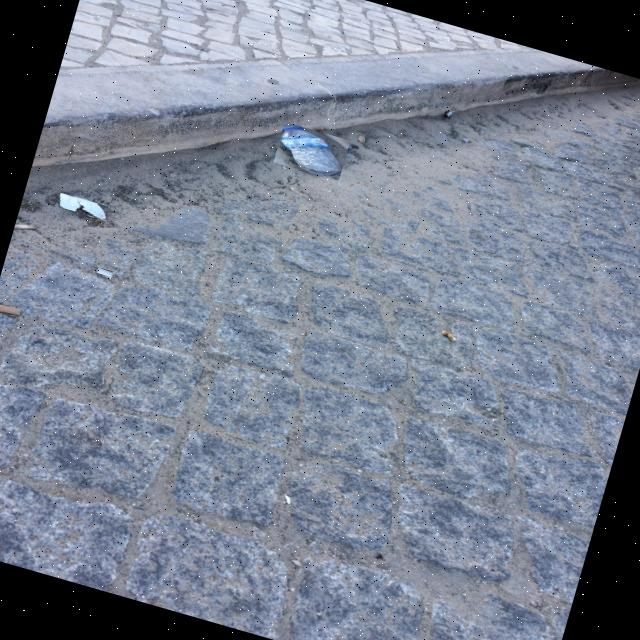Cigarette: (0, 305, 19, 316), (96, 268, 112, 278), (444, 111, 451, 118), (359, 135, 364, 142)
Clear plastic bottle: (282, 126, 342, 176)
Other plastic bottle: (59, 193, 105, 219)
